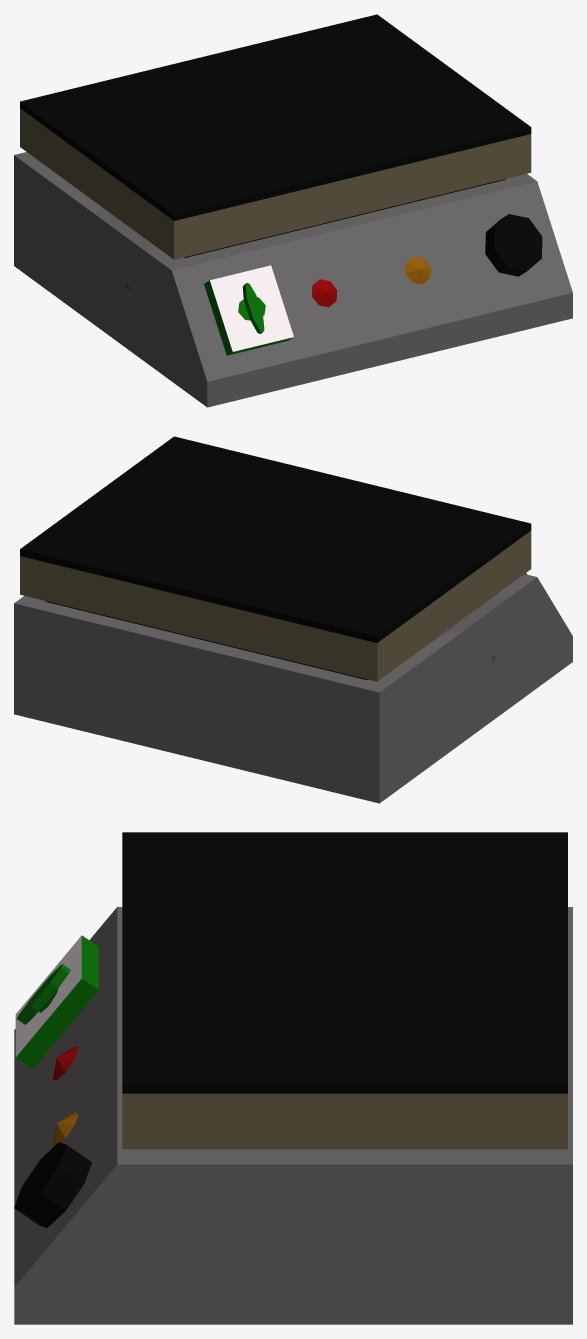
The model's file is isitici.fbx.
3 views of the same model, one above another, from view 1: azimuth 30°, elevation 25°; view 2: azimuth 150°, elevation 25°; view 3: azimuth 270°, elevation 25° (orthographic). The views are drawn at different scales.
Visible parts, largest first — view 1: Cube; view 2: Cube; view 3: Cube.
Part boxes in pixels (box(x1,y1,x2,y2)): Cube: box(14, 14, 572, 407); Cube: box(14, 436, 572, 803); Cube: box(14, 832, 572, 1324).
Bounding box in the file's own units: 415 × 179 × 380.
1 material, 1 textured.
